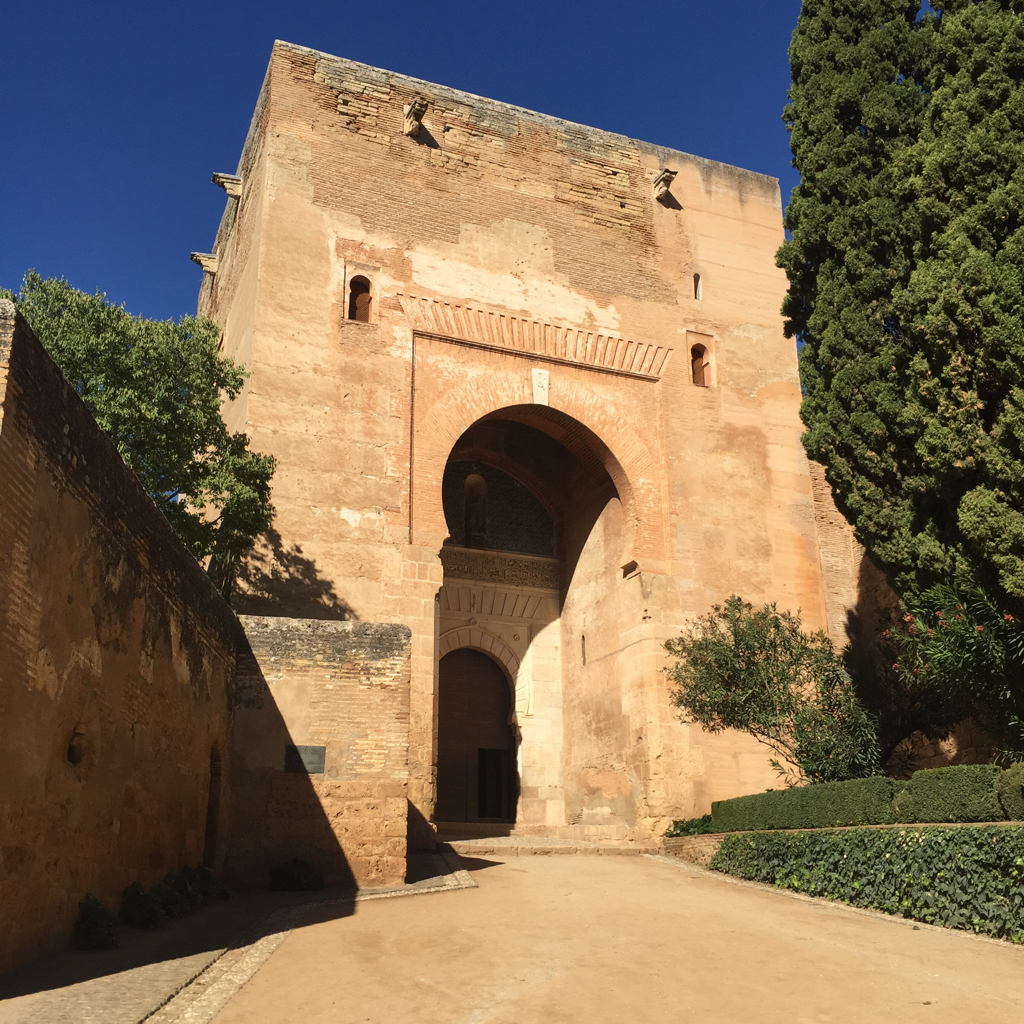arco-herradura: (432, 394, 652, 582)
dintel-adovelado: (398, 293, 675, 381), (442, 583, 543, 620)
